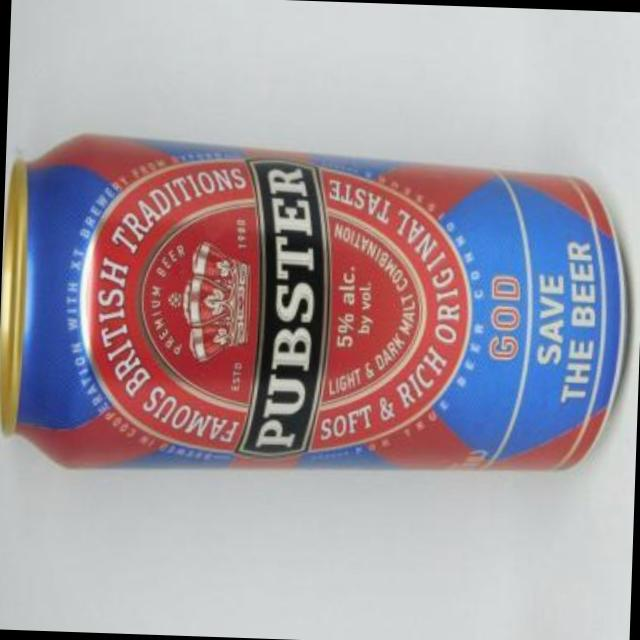metal: (0, 138, 621, 470)
